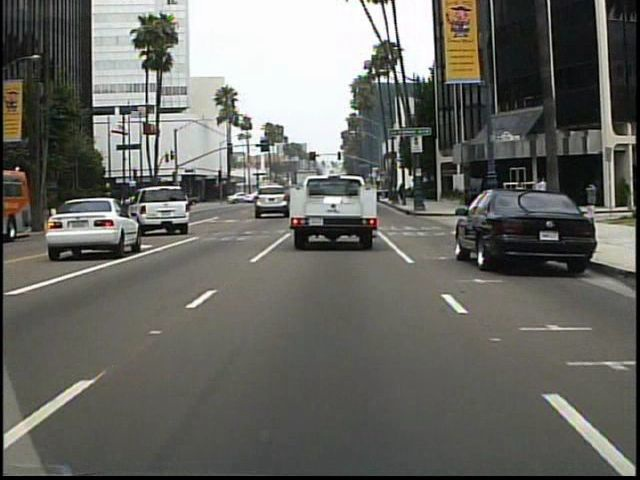person: (537, 175, 553, 213)
